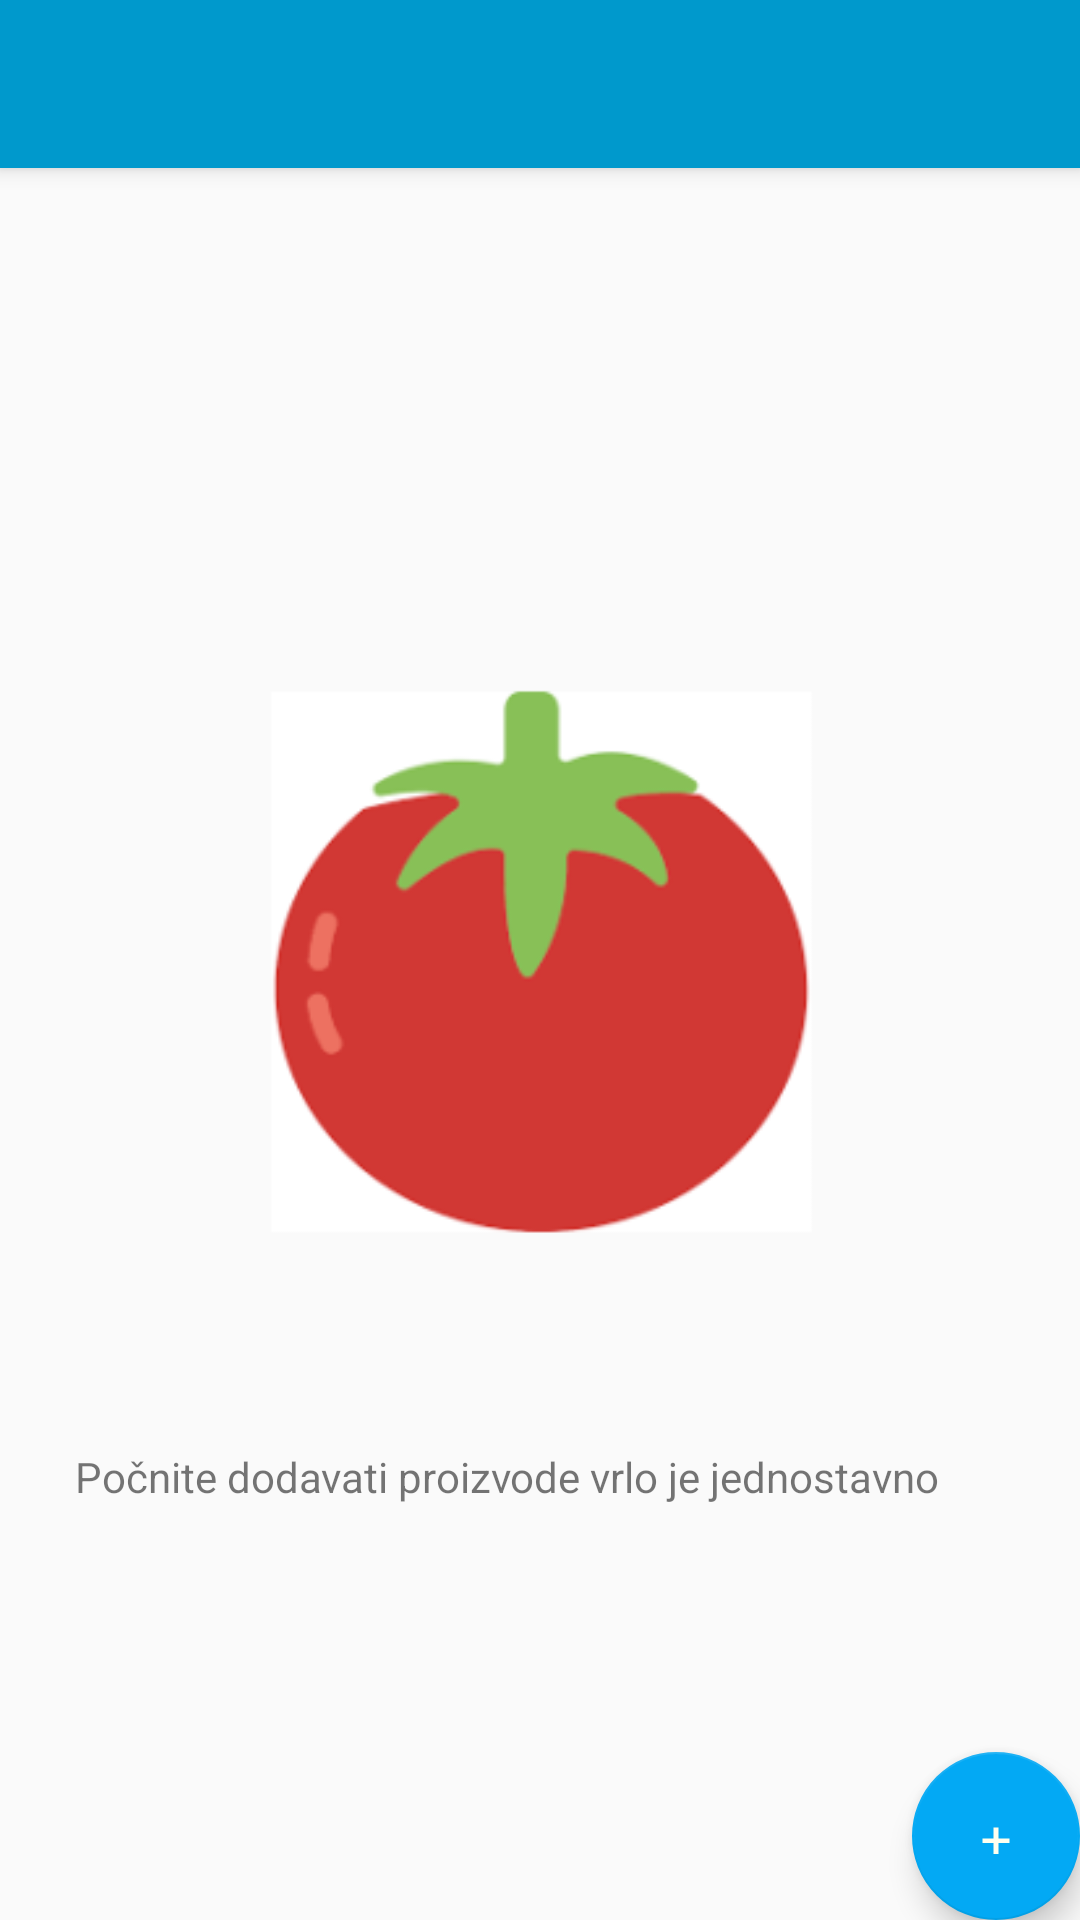

Named icons in this screenshot (1080px x 1920px) and their bounding boxes, (x1, y1, x2, y2):
plus: (912, 1752, 1080, 1920)
